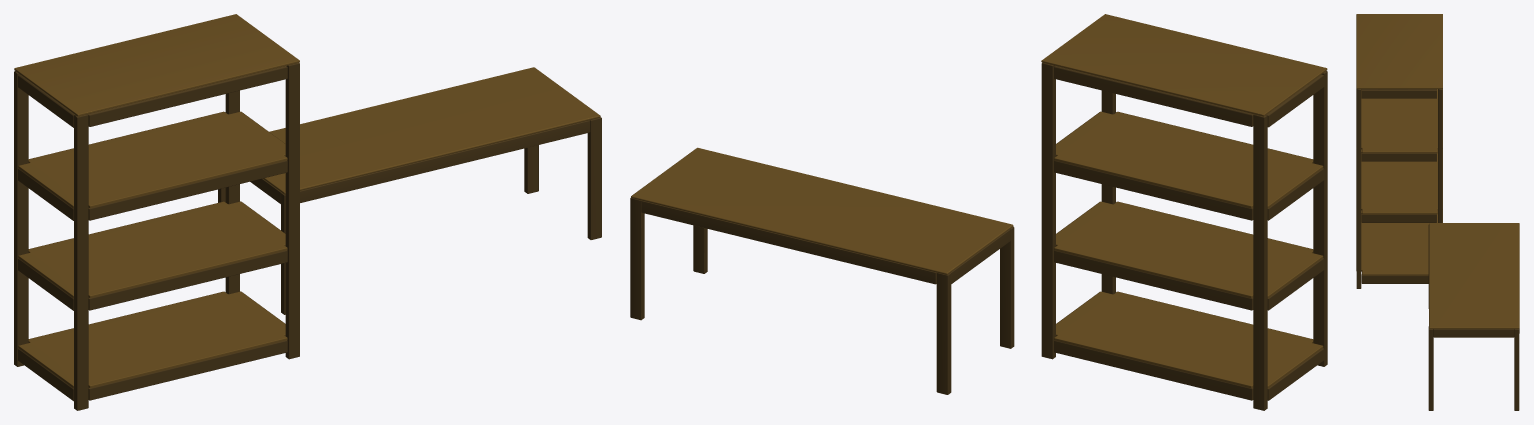
File: Tables-Shelves.fbx
3 views of the same model, side by side, from view 1: azimuth 30°, elevation 25°; view 2: azimuth 150°, elevation 25°; view 3: azimuth 270°, elevation 25° (orthographic). The views are drawn at different scales.
Parts seen in each view (by area): view 1: Shelf, Work Table; view 2: Shelf, Work Table; view 3: Shelf, Work Table.
Boxes of the visible parts, x1,y1,x2,y2 form: Shelf: (14, 14, 299, 410); Work Table: (218, 67, 601, 314); Shelf: (1041, 14, 1327, 410); Work Table: (630, 147, 1014, 394); Shelf: (1356, 14, 1442, 288); Work Table: (1428, 223, 1519, 410).
Bounding box in the file's own units: 377 × 189 × 136.
